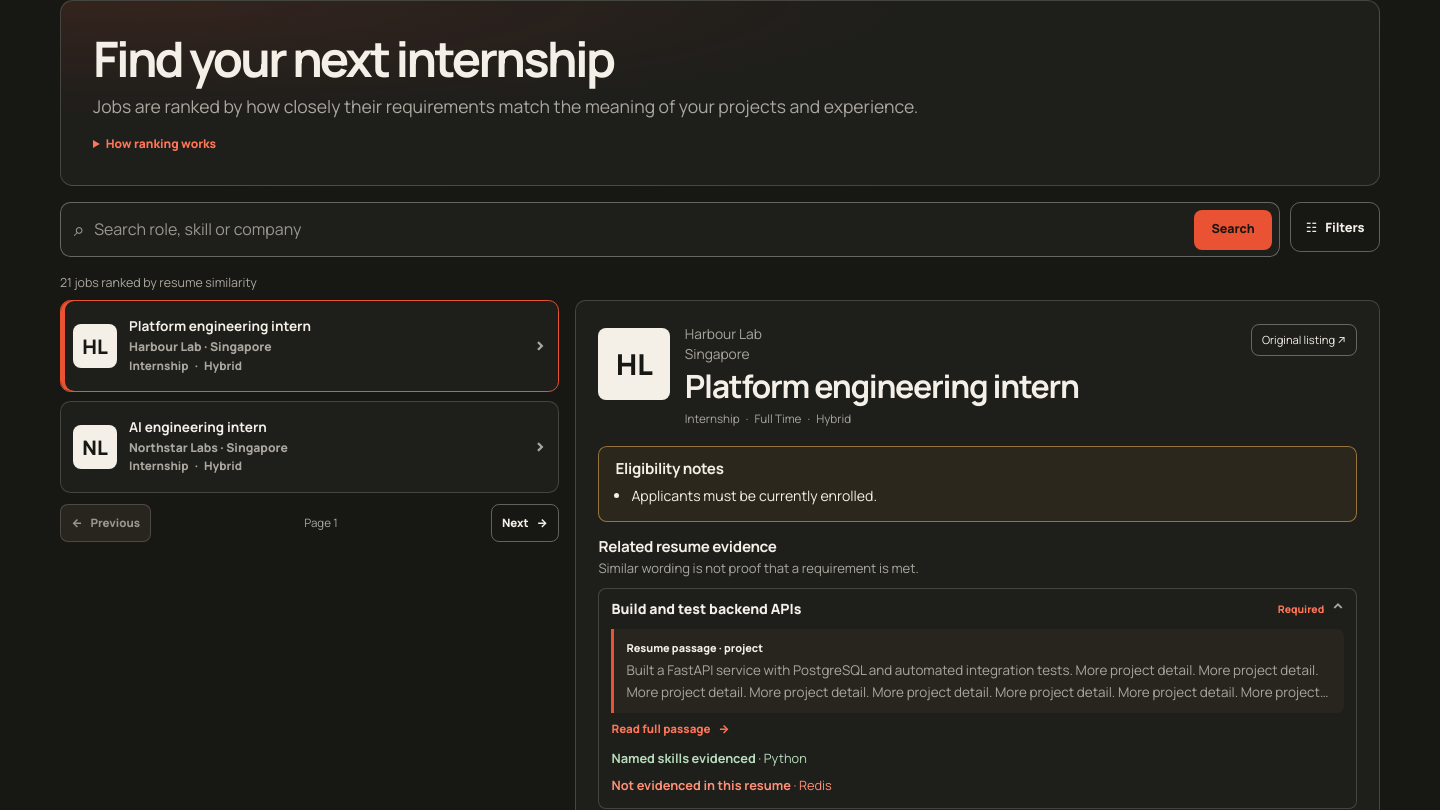
it: keeps pagination revision handling and truthful empty state
The width and height of the screenshot is (1440, 810).
Expected: the heading "Platform engineering intern" is shown, [685,364,1079,408]
Click the button "Next →" at (525, 523), box [490,504,559,542]
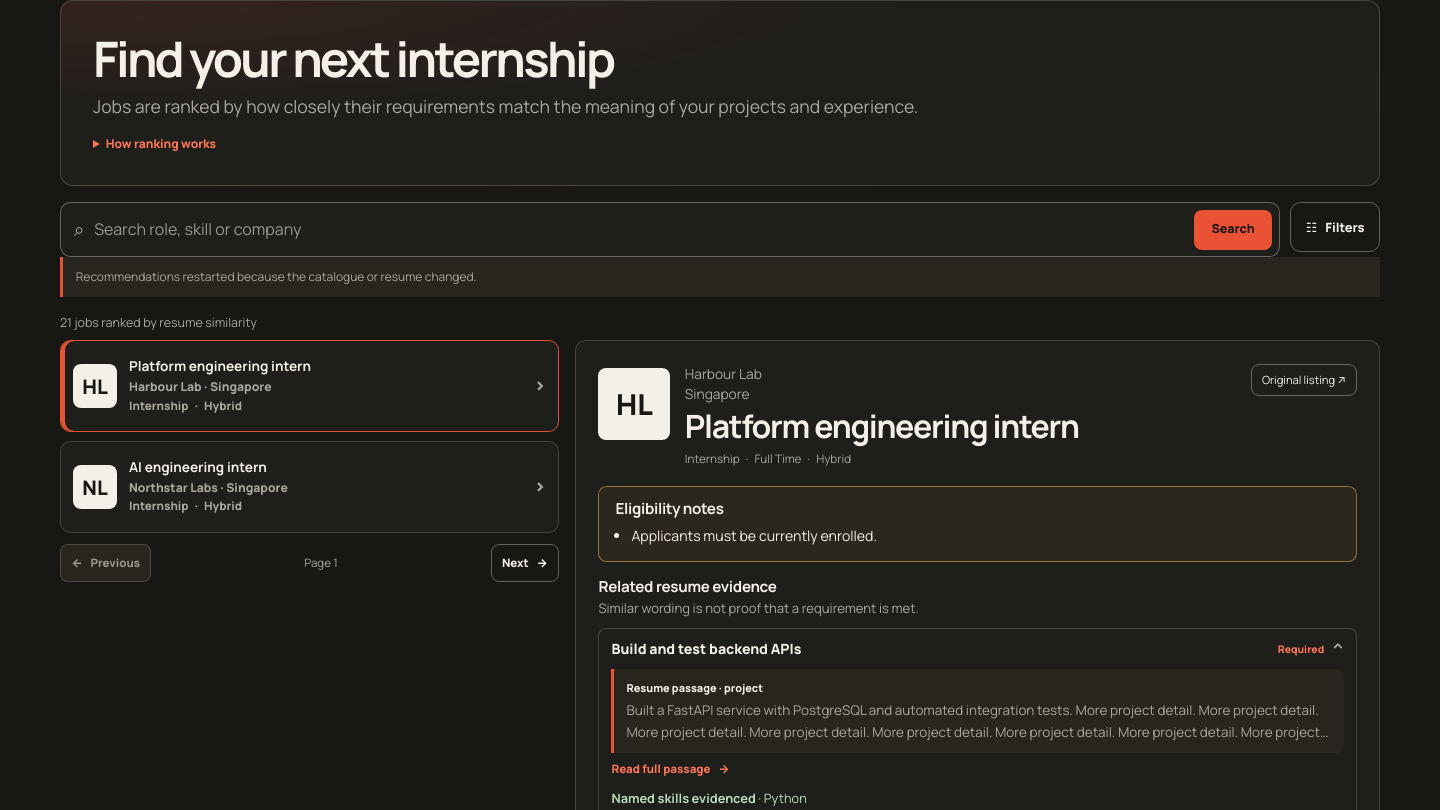
Expected: the text "Recommendations restarted because the catalogue or resume changed." is shown, [60,257,1380,297]
